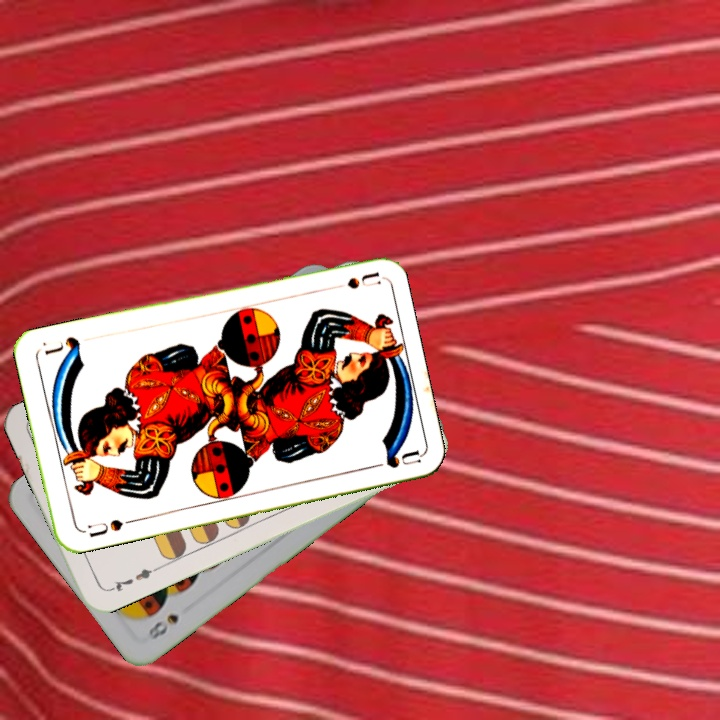E7: (103, 564, 159, 595)
S8: (144, 609, 182, 643)
SU: (322, 268, 381, 294), (78, 515, 137, 540)
